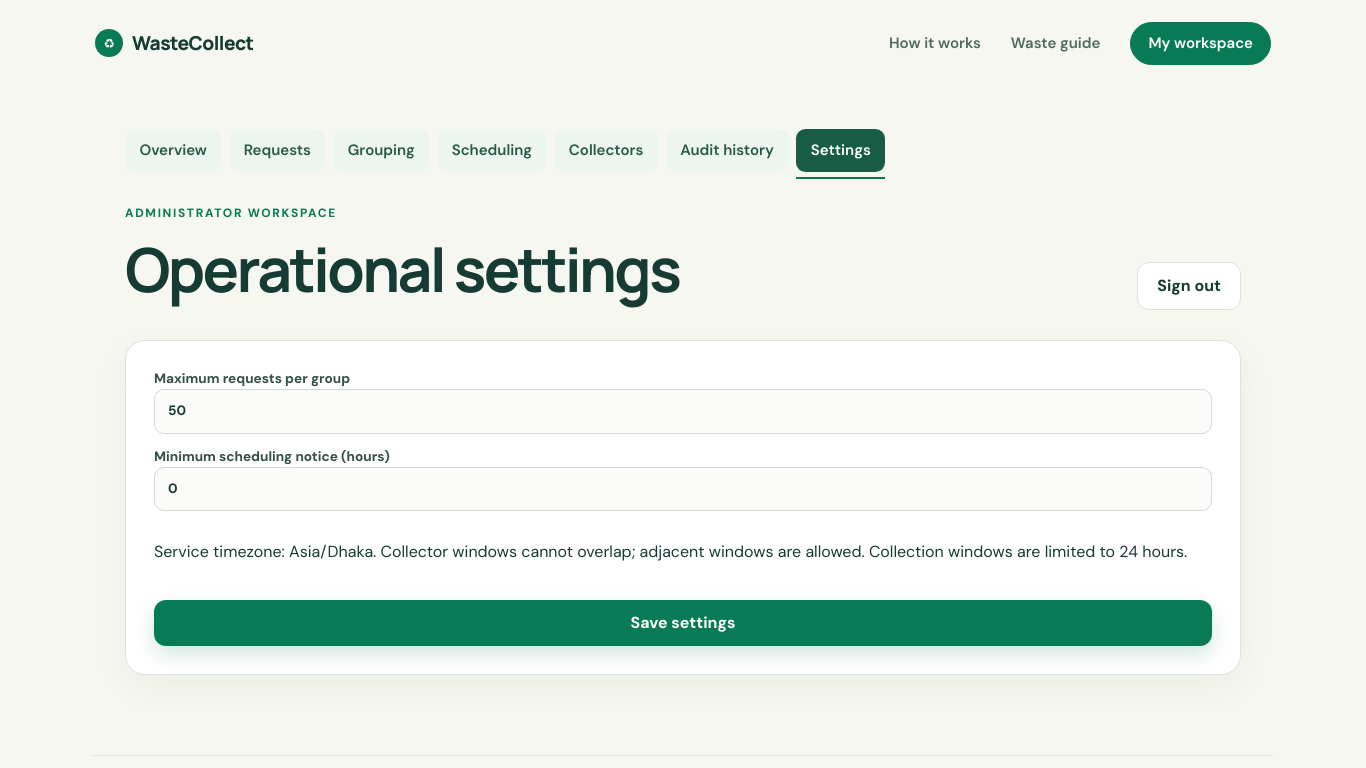
Test: saves operational settings as numeric values
Expected: the button "Save settings" is shown, left=154, top=600, right=1212, bottom=646
Replace the text in the number field labelled "Maximum requests per group" with "25" at (683,412), box left=154, top=389, right=1212, bottom=434
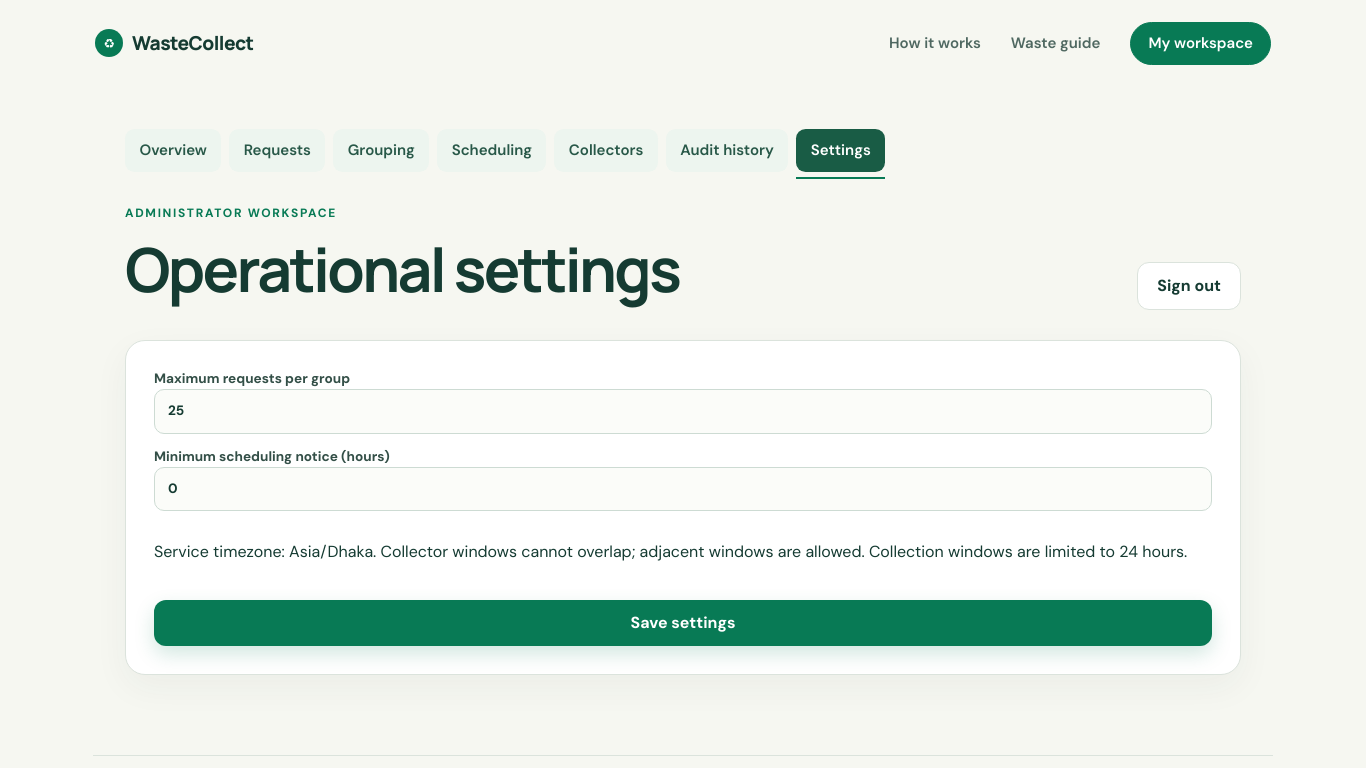
Replace the text in the number field labelled "Minimum scheduling notice (hours)" with "2" at (683,489), box left=154, top=467, right=1212, bottom=512
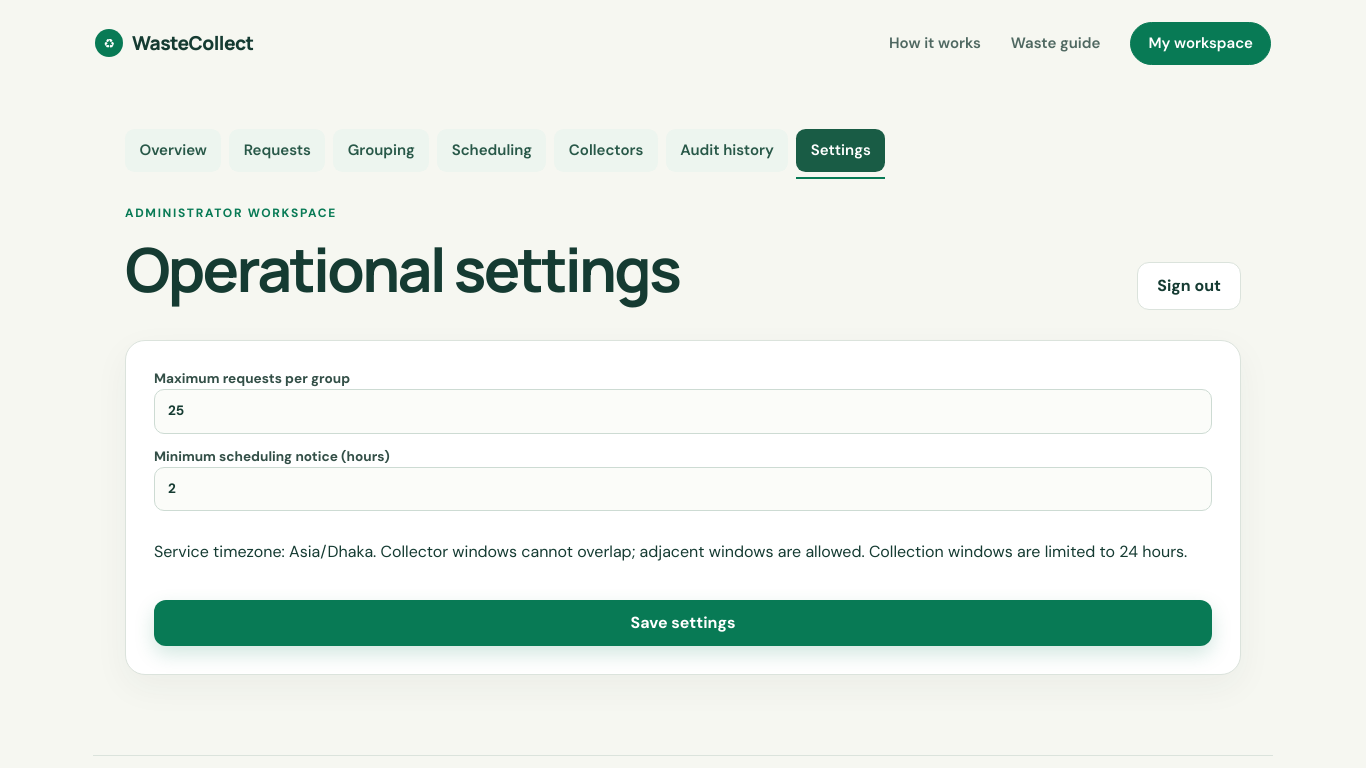
Submit the form named "Save settings", box left=154, top=369, right=1212, bottom=646
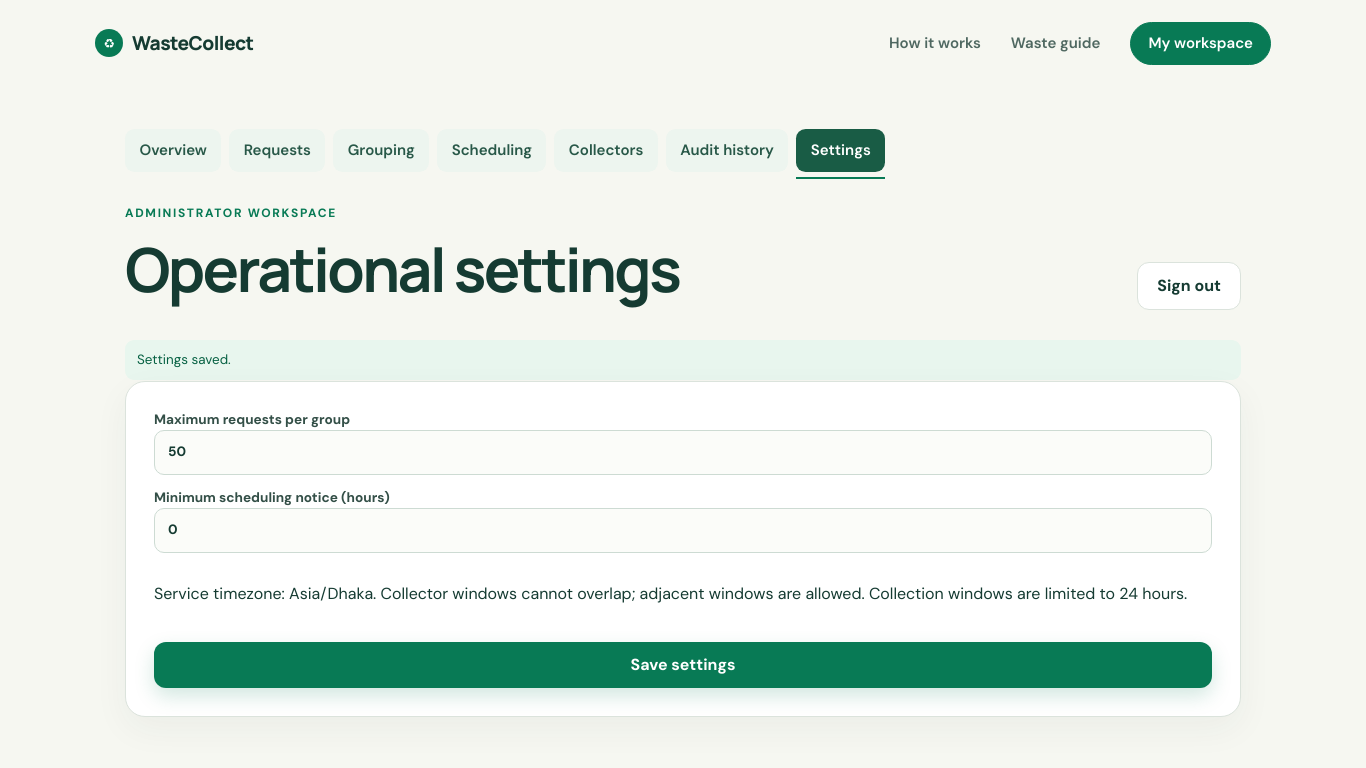
Expected: the text "Settings saved." is shown, left=125, top=340, right=1241, bottom=380
